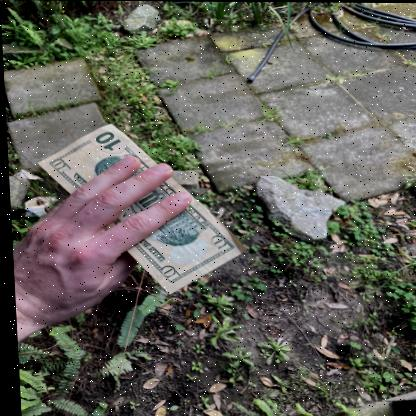ten-back: (34, 116, 246, 298)
